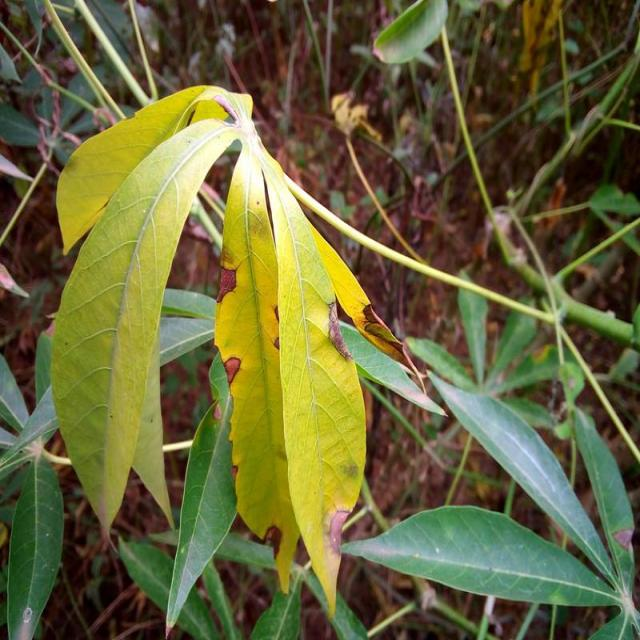cassava leaf: (52, 84, 446, 620), (49, 109, 246, 543), (260, 140, 368, 618)
